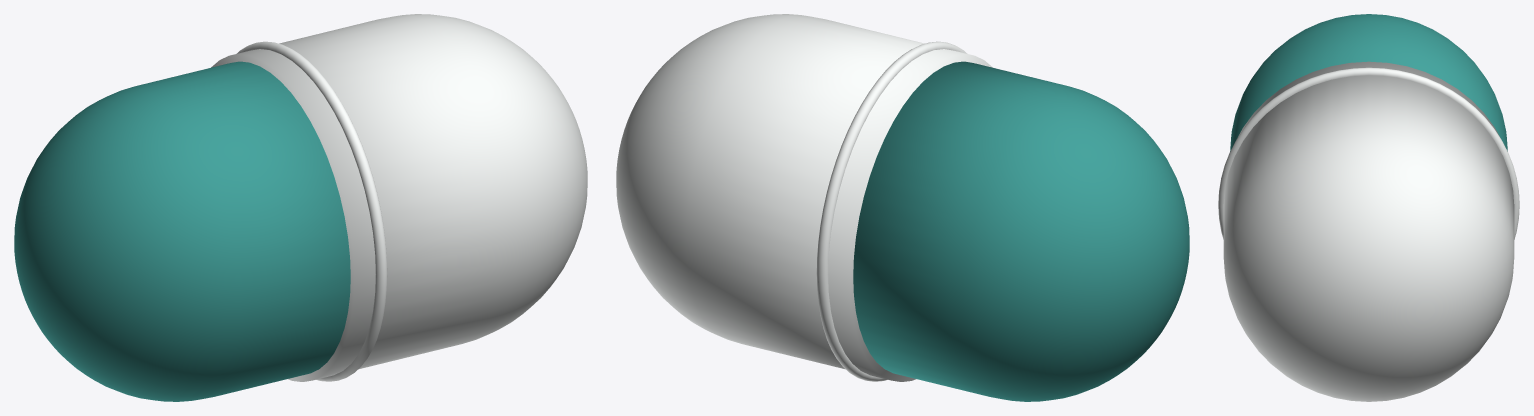
3 renders of one model, left to right at view 1: azimuth 30°, elevation 25°; view 2: azimuth 150°, elevation 25°; view 3: azimuth 270°, elevation 25°, orthographic. The views are drawn at different scales.
Visible parts, largest first — view 1: CapCur, CapTgt, CapLip; view 2: CapCur, CapTgt, CapLip; view 3: CapTgt, CapCur, CapLip.
Boxes of the visible parts, <box> form: CapCur: <box>14,61,350,401</box>; CapTgt: <box>211,14,587,381</box>; CapLip: <box>236,41,387,381</box>; CapCur: <box>853,61,1189,401</box>; CapTgt: <box>616,14,992,381</box>; CapLip: <box>816,41,967,381</box>; CapTgt: <box>1223,61,1514,401</box>; CapCur: <box>1230,14,1507,151</box>; CapLip: <box>1218,67,1519,239</box>.
Size of the model in its own units: 0.992 by 0.564 by 0.564.
